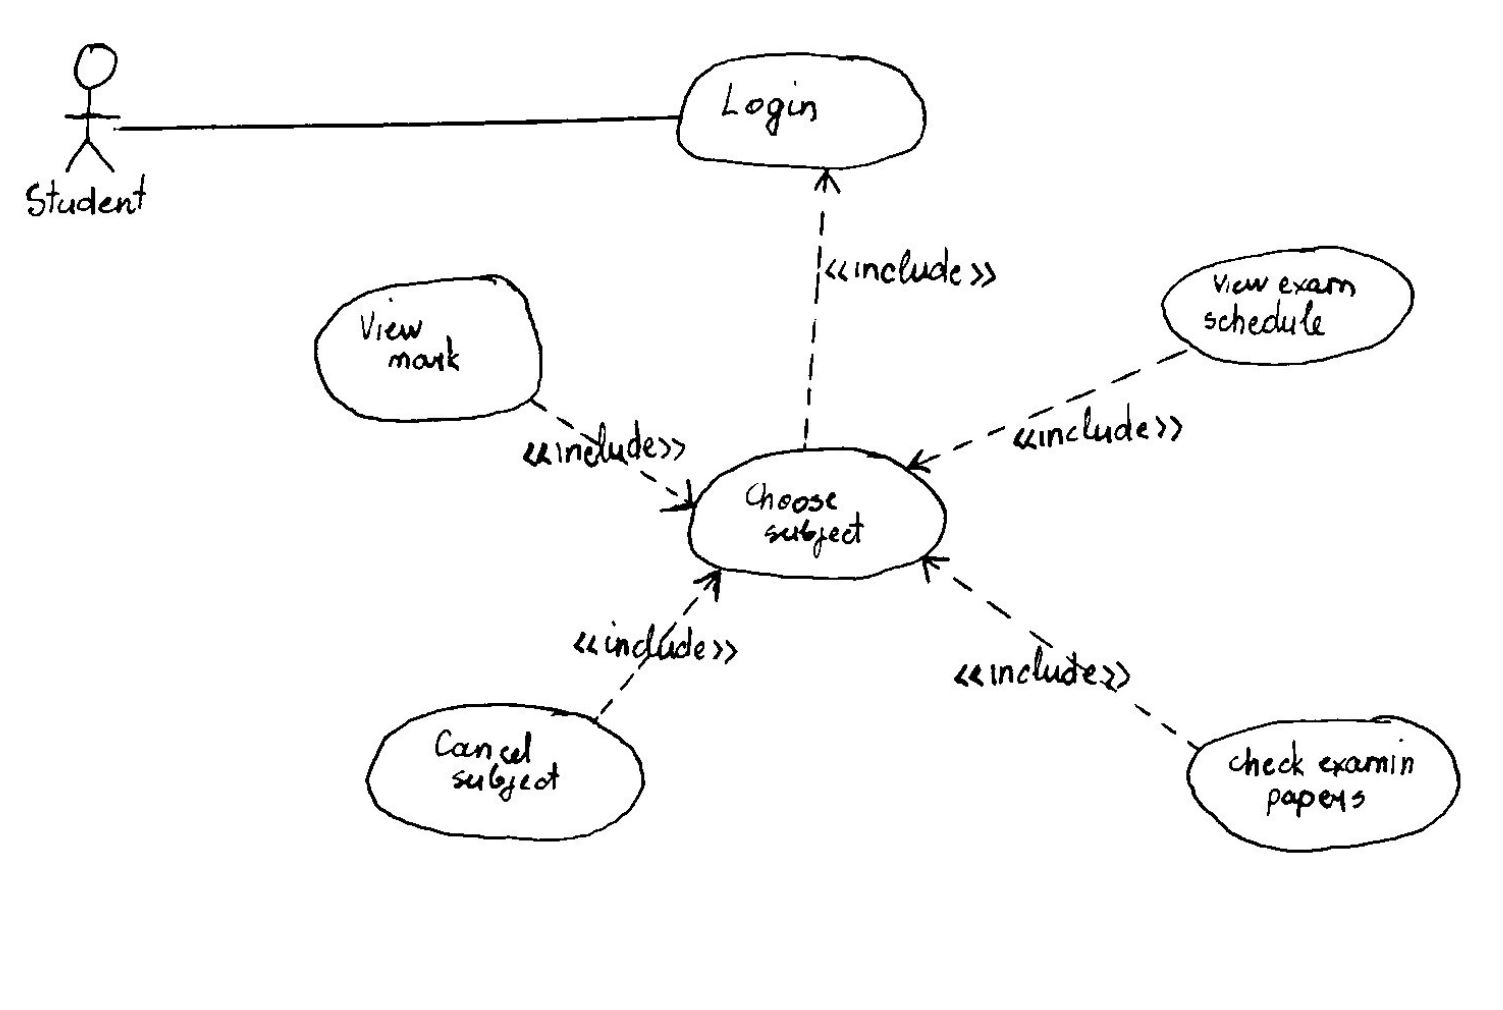actor: (56, 30, 124, 181)
association: (921, 553, 1202, 751), (905, 346, 1191, 473), (112, 100, 675, 151), (597, 566, 723, 723), (531, 399, 696, 513), (800, 168, 850, 446)
text: (1225, 738, 1422, 815), (733, 479, 879, 562), (435, 727, 573, 810), (1203, 269, 1360, 342), (359, 300, 475, 390), (1010, 404, 1184, 463), (952, 644, 1144, 694), (572, 619, 748, 673), (826, 245, 1008, 294), (524, 417, 685, 471), (713, 78, 835, 145), (19, 180, 160, 222)
use_case: (365, 699, 646, 842), (1185, 715, 1461, 850), (685, 445, 949, 583), (310, 274, 544, 426), (672, 48, 930, 172), (1160, 247, 1412, 367)
